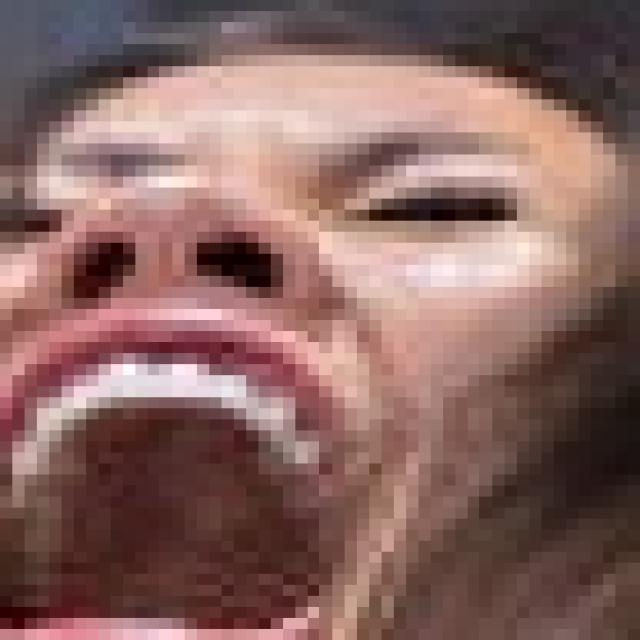Anxiety: (12, 49, 640, 629)
